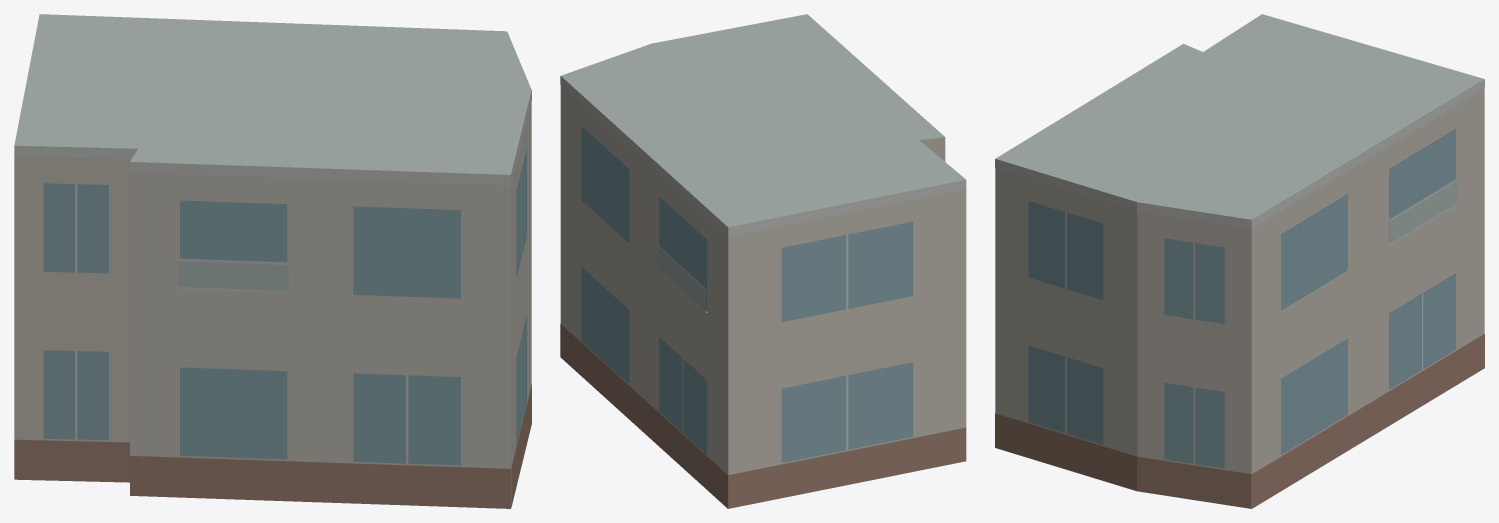
The model's file is survey-upis-32756061.glb.
3 views of the same model, side by side, from view 1: azimuth 30°, elevation 25°; view 2: azimuth 150°, elevation 25°; view 3: azimuth 270°, elevation 25° (orthographic). The views are drawn at different scales.
Parts seen in each view (by area): view 1: survey-upis-32756061.tmp; view 2: survey-upis-32756061.tmp; view 3: survey-upis-32756061.tmp.
Boxes of the visible parts, x1,y1,x2,y2 form: survey-upis-32756061.tmp: [14, 14, 531, 508]; survey-upis-32756061.tmp: [560, 14, 966, 508]; survey-upis-32756061.tmp: [995, 14, 1484, 508].
Size of the model in its own units: 11.61 by 7.6 by 11.67.
